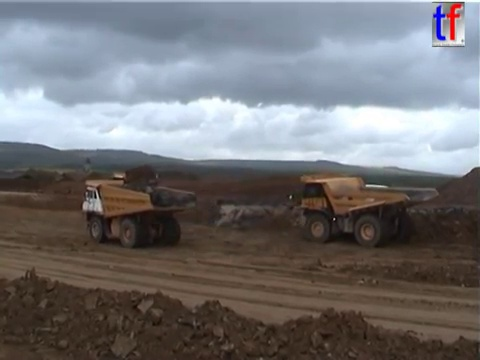truck: (287, 168, 440, 248), (79, 177, 198, 249), (108, 168, 161, 202)
